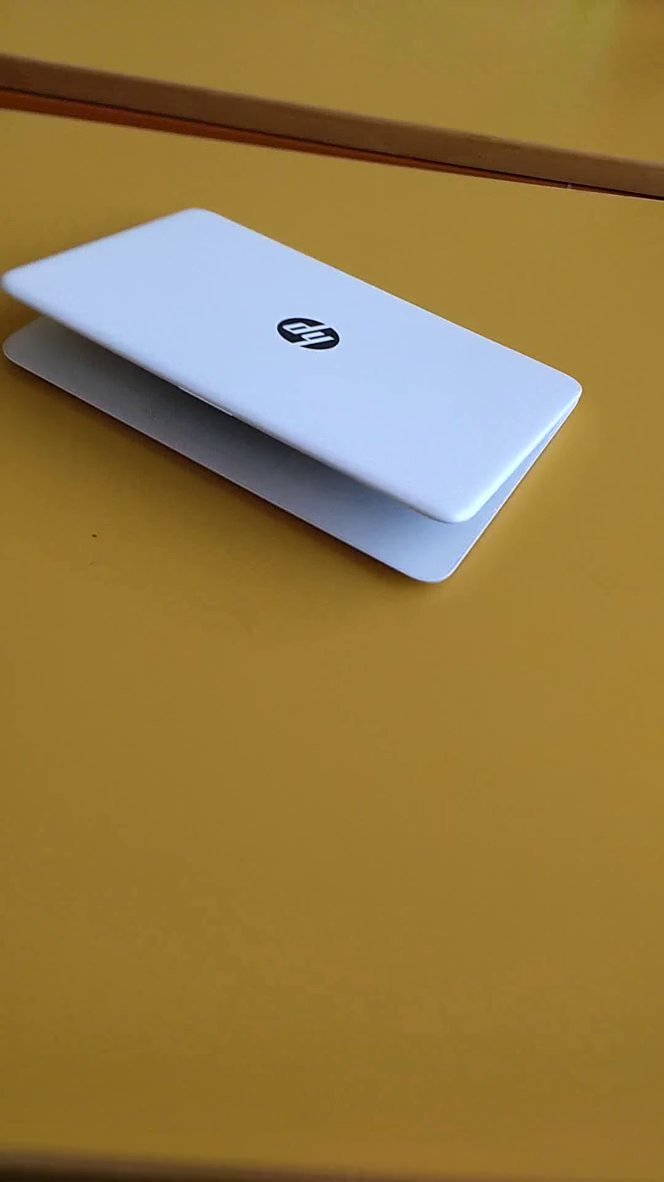laptop: (2, 189, 599, 603)
